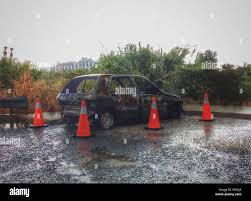car: (58, 74, 184, 128)
cone: (75, 100, 92, 137), (198, 92, 216, 120), (31, 96, 46, 126), (146, 97, 160, 128)
